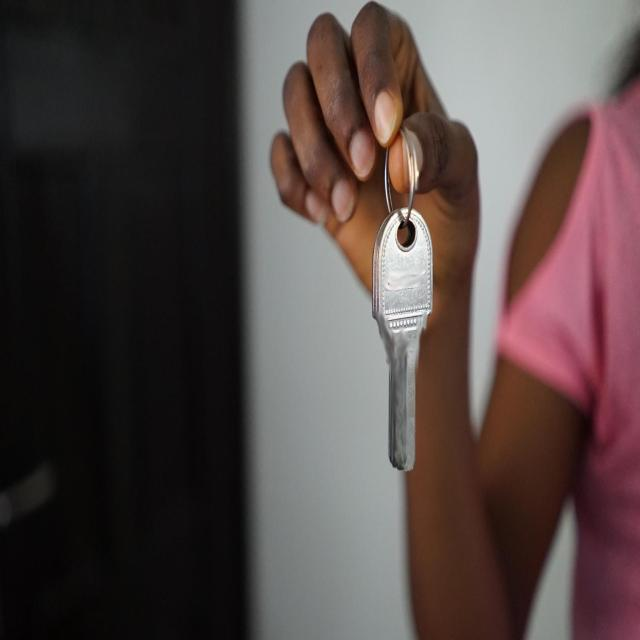Frontdoor keys: (374, 201, 436, 474)
